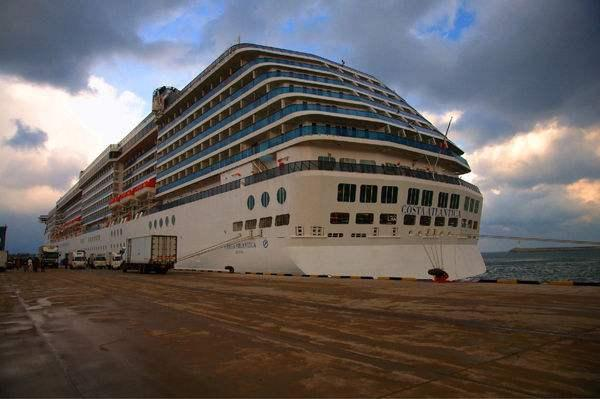youlun: (40, 38, 485, 278)
